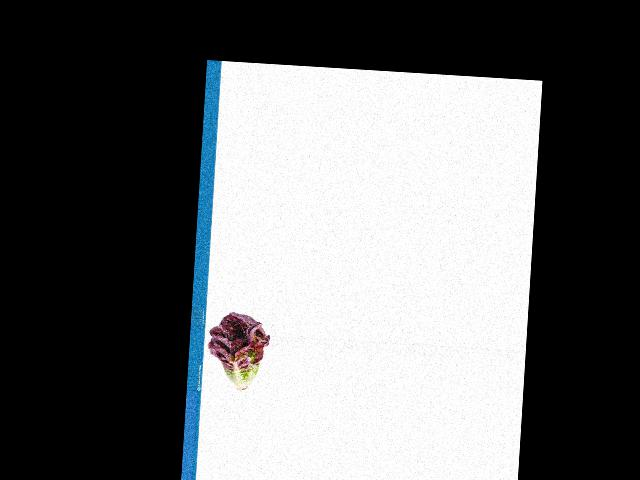lettuce: (205, 312, 269, 392)
